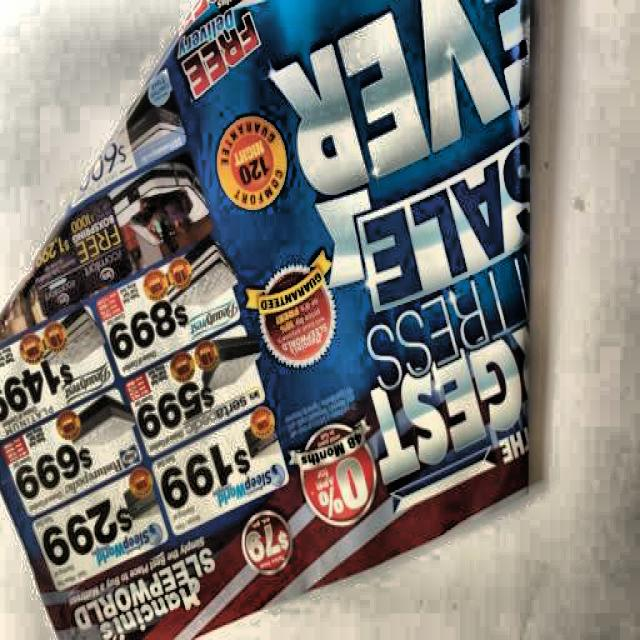paper: (6, 8, 601, 618)
